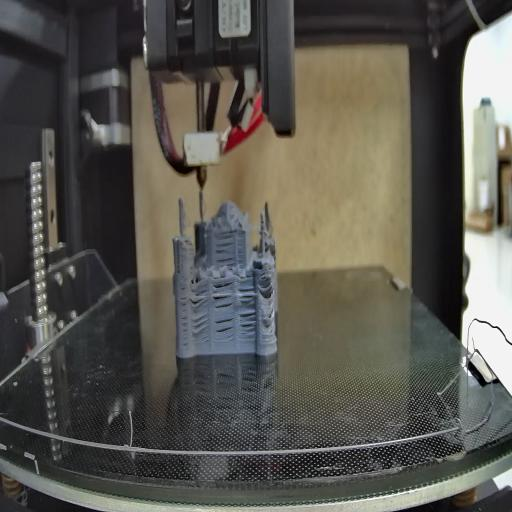cracks: (239, 288, 256, 340), (179, 284, 190, 353), (214, 234, 236, 265), (213, 281, 235, 311), (213, 318, 236, 342), (190, 284, 208, 308), (193, 314, 210, 338), (259, 277, 276, 301), (262, 306, 274, 327)
